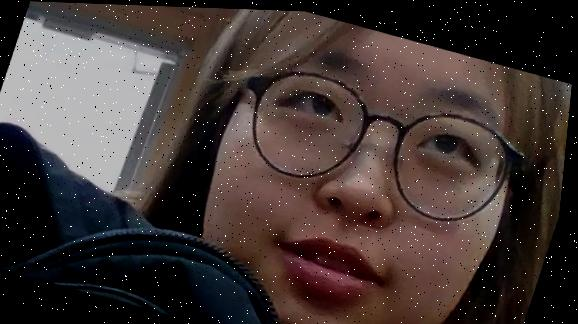eye: (437, 128, 462, 151), (313, 92, 338, 113)
iris: (285, 84, 352, 119), (417, 123, 481, 159)
